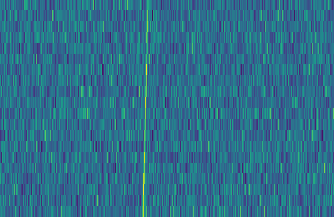signal: (138, 0, 152, 217)
